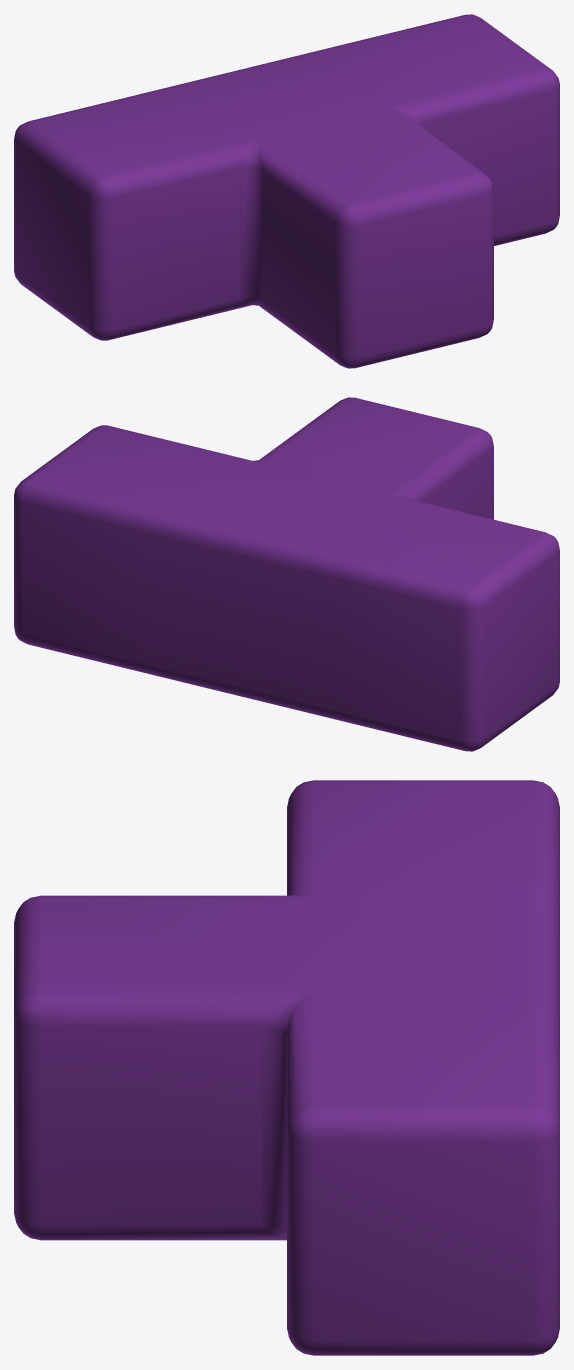
Rendered from t_block.glb.
3 views of the same model, one above another, from view 1: azimuth 30°, elevation 25°; view 2: azimuth 150°, elevation 25°; view 3: azimuth 270°, elevation 25° (orthographic). The views are drawn at different scales.
Visible parts, largest first — view 1: Cube; view 2: Cube; view 3: Cube.
Part boxes in pixels (x1,y1,x2,y2): Cube: (14,14,559,368); Cube: (14,397,559,751); Cube: (14,780,559,1355).
Size of the model in its own units: 3 by 1 by 2.
